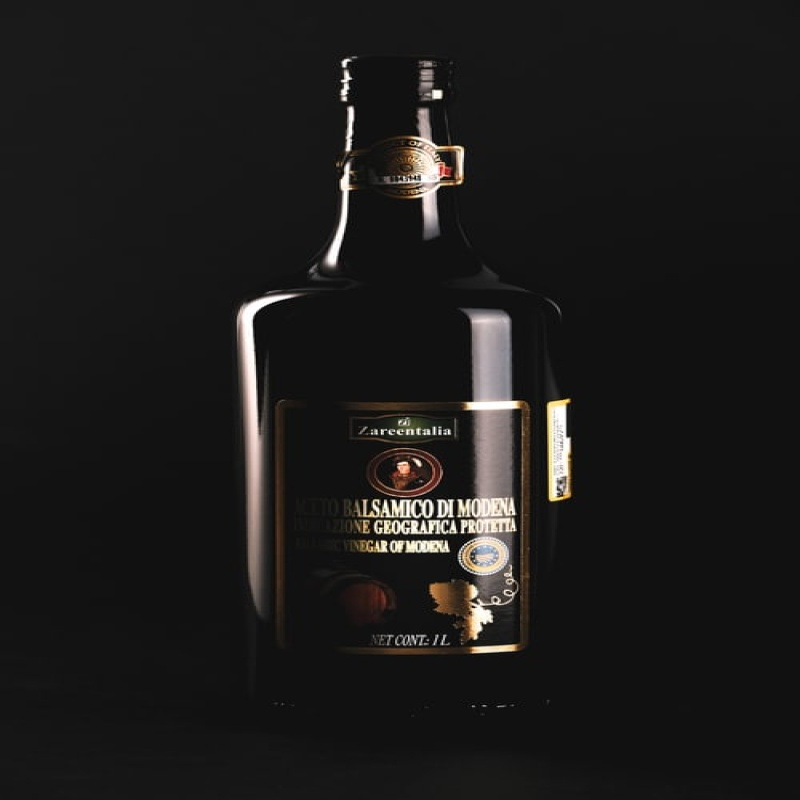wine: (228, 44, 571, 725)
